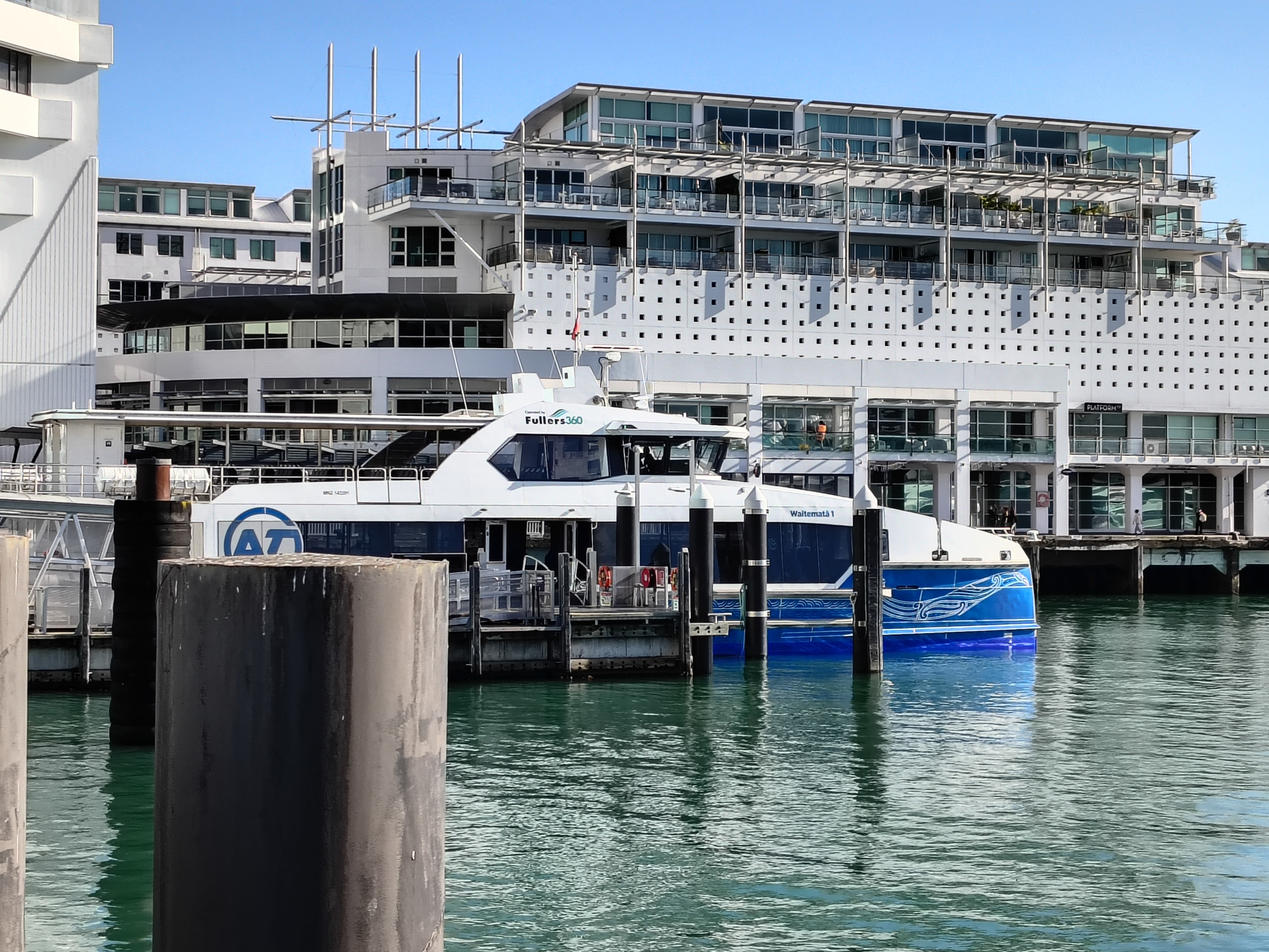ferry: (188, 352, 1041, 657)
